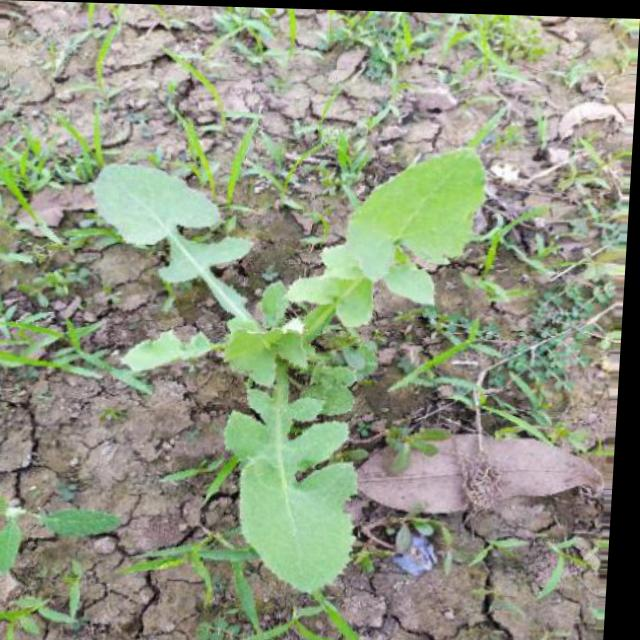weed: (68, 133, 490, 590)
